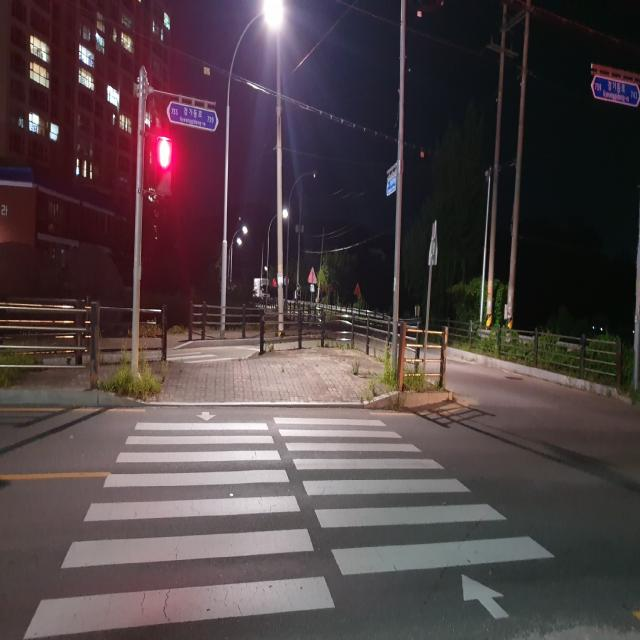빨간불: (154, 139, 174, 197)
횡단보도: (20, 406, 557, 640)
